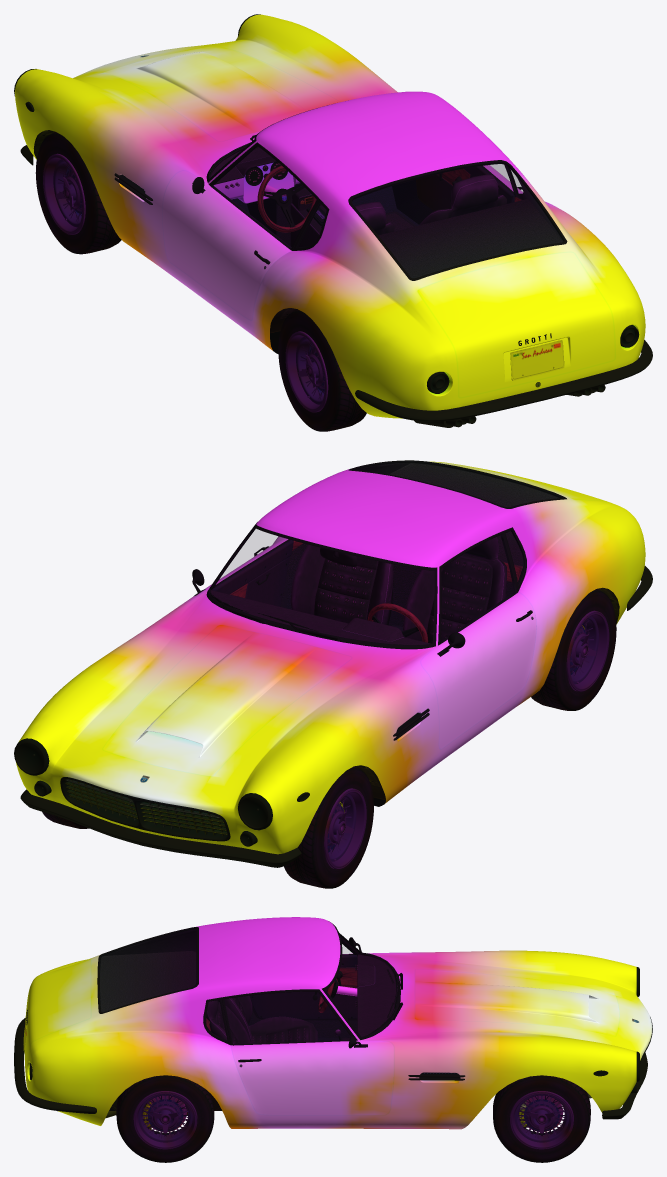
3 renders of one model, top to bottom at view 1: azimuth 30°, elevation 25°; view 2: azimuth 150°, elevation 25°; view 3: azimuth 270°, elevation 25°, orthographic. The views are drawn at different scales.
Parts seen in each view (by area): view 1: bodyshell, chassis, boot, windscreen_r, bonnet, door_dside_f, wheel_lr, wheel_lf, window_lf, bumper_r, door_pside_f, steeringwheel; view 2: bodyshell, chassis, bonnet, door_dside_f, wheel_lf, wheel_lr, window_lf, bumper_f, windscreen_r, door_pside_f, window_rf, boot (+1 smaller); view 3: bodyshell, chassis, door_pside_f, bonnet, wheel_rf, wheel_rr, windscreen_r, window_rf, boot, door_dside_f, bumper_r, bumper_f (+1 smaller).
Boxes of the visible parts, x1,y1,x2,y2 form: bodyshell: (14,14,645,418); chassis: (25,102,637,392); boot: (418,252,615,397); windscreen_r: (352,162,563,277); bonnet: (103,46,340,141); door_dside_f: (162,142,319,320); wheel_lr: (278,309,366,431); wheel_lf: (35,132,121,254); window_lf: (212,147,315,248); bumper_r: (355,340,652,421); door_pside_f: (416,165,523,211); steeringwheel: (257,166,316,232); bodyshell: (14,460,645,854); chassis: (16,460,619,845); bonnet: (103,625,351,776); door_dside_f: (420,531,536,749); wheel_lf: (284,766,373,888); wheel_lr: (531,589,616,710); window_lf: (441,535,515,642); bumper_f: (20,789,301,867); windscreen_r: (353,461,562,506); door_pside_f: (177,522,293,607); window_rf: (217,529,287,583); boot: (432,462,606,501); bodyshell: (24,917,652,1129); chassis: (29,927,607,1110); door_pside_f: (221,989,394,1115); bonnet: (415,969,619,1036); wheel_rf: (493,1075,590,1162); wheel_rr: (116,1075,214,1162); windscreen_r: (100,928,195,1011); window_rf: (225,992,349,1044); boot: (23,959,90,1075); door_dside_f: (249,937,374,1020); bumper_r: (14,1018,96,1113); bumper_f: (602,1052,647,1119).
Size of the model in its own units: 1.66 by 1.21 by 4.14.
18 materials, 18 textured.
